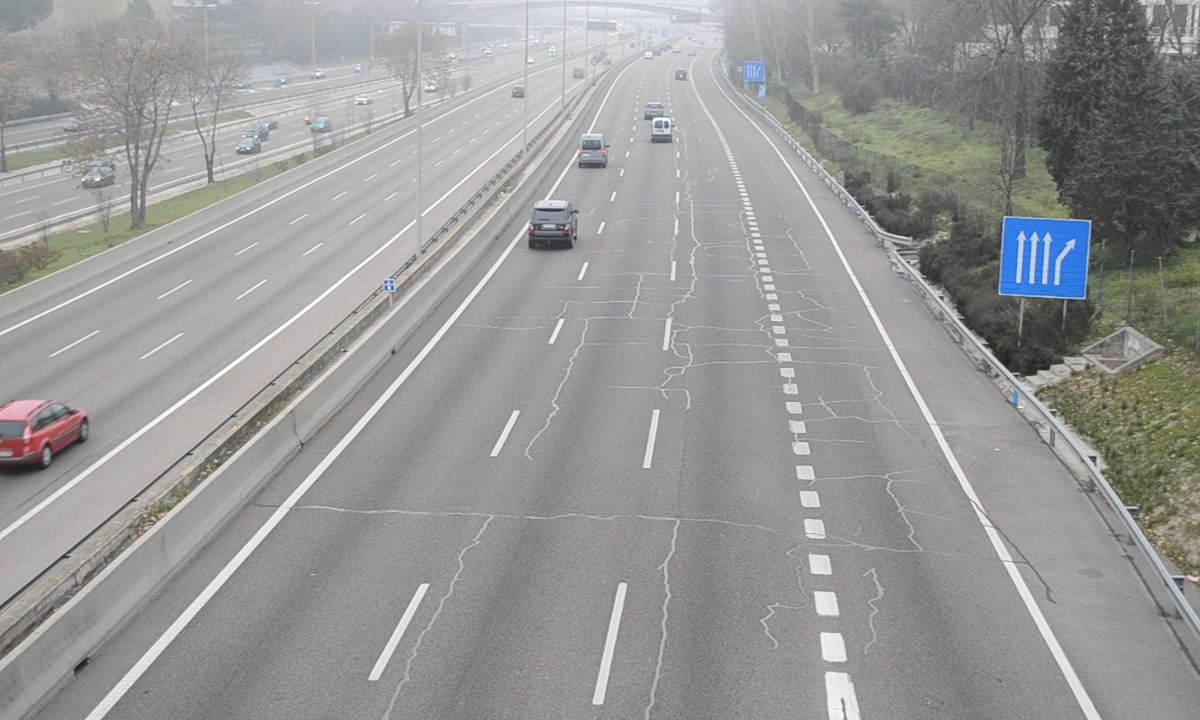car: (528, 201, 578, 245)
van: (578, 133, 609, 168)
